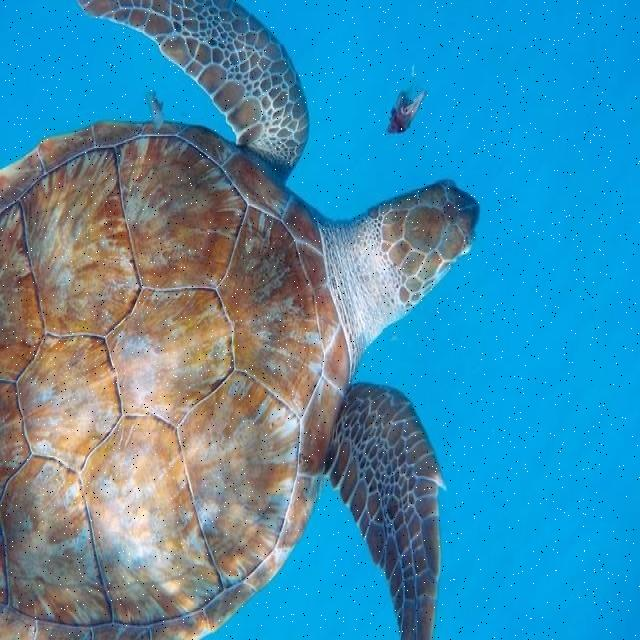fish: (1, 1, 481, 639), (386, 88, 427, 134), (145, 91, 165, 132)
